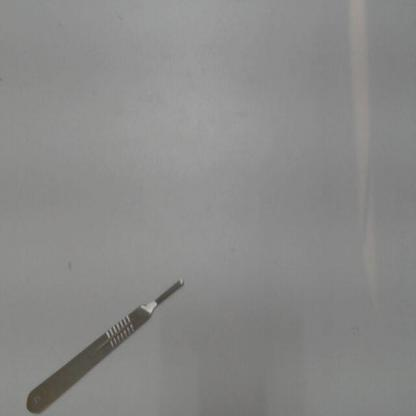No.4 BP Handle: (16, 270, 190, 414)
